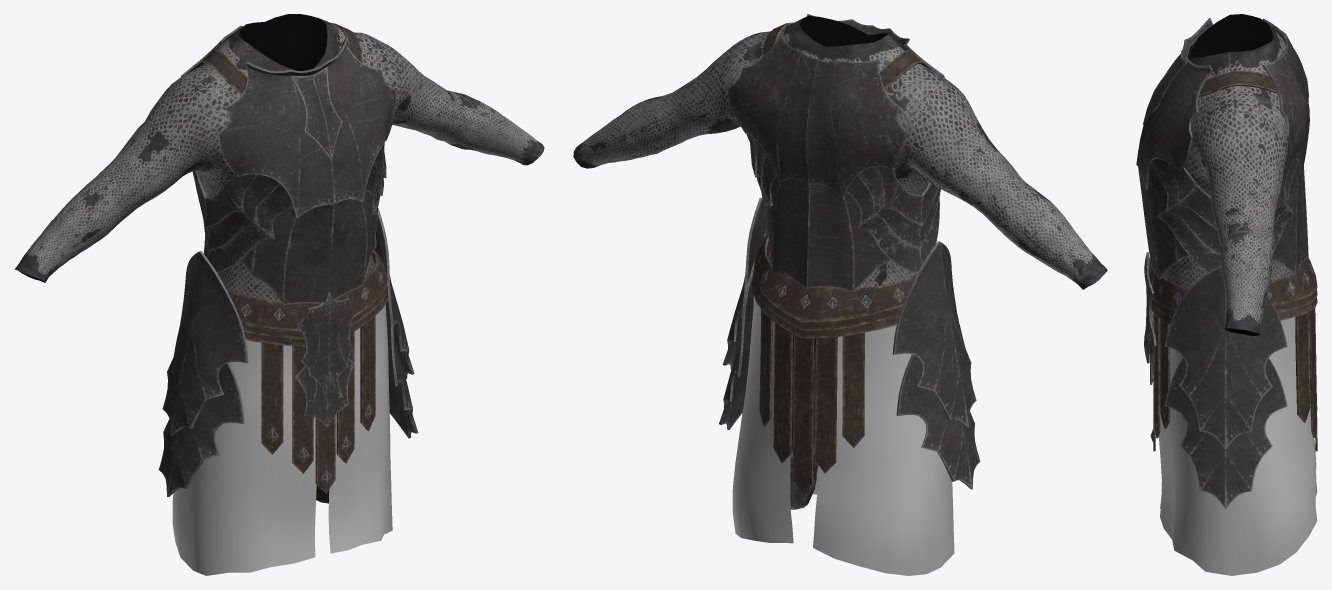
The model's file is sk_uruk_mordor_chainmail_elite_b2.fbx.
3 views of the same model, side by side, from view 1: azimuth 30°, elevation 25°; view 2: azimuth 150°, elevation 25°; view 3: azimuth 270°, elevation 25° (orthographic). The views are drawn at different scales.
Parts seen in each view (by area): view 1: sk_uruk_mordor_chainmail_elite_b2.4, sk_uruk_mordor_chainmail_elite_b2.0, sk_uruk_mordor_chainmail_elite_b2.2, sk_uruk_mordor_chainmail_elite_b2.5, sk_uruk_mordor_chainmail_elite_b2.1, sk_uruk_mordor_chainmail_elite_b2.3; view 2: sk_uruk_mordor_chainmail_elite_b2.4, sk_uruk_mordor_chainmail_elite_b2.0, sk_uruk_mordor_chainmail_elite_b2.2, sk_uruk_mordor_chainmail_elite_b2.1, sk_uruk_mordor_chainmail_elite_b2.5; view 3: sk_uruk_mordor_chainmail_elite_b2.0, sk_uruk_mordor_chainmail_elite_b2.2, sk_uruk_mordor_chainmail_elite_b2.4, sk_uruk_mordor_chainmail_elite_b2.5, sk_uruk_mordor_chainmail_elite_b2.1, sk_uruk_mordor_chainmail_elite_b2.3.
Part boxes in pixels (box(x1,y1,x2,y2)): sk_uruk_mordor_chainmail_elite_b2.4: box(180, 17, 396, 304); sk_uruk_mordor_chainmail_elite_b2.0: box(15, 14, 544, 503); sk_uruk_mordor_chainmail_elite_b2.2: box(172, 304, 392, 575); sk_uruk_mordor_chainmail_elite_b2.5: box(158, 208, 418, 496); sk_uruk_mordor_chainmail_elite_b2.1: box(202, 23, 388, 493); sk_uruk_mordor_chainmail_elite_b2.3: box(295, 291, 354, 426); sk_uruk_mordor_chainmail_elite_b2.4: box(727, 14, 944, 292); sk_uruk_mordor_chainmail_elite_b2.0: box(573, 15, 1107, 509); sk_uruk_mordor_chainmail_elite_b2.2: box(732, 296, 954, 575); sk_uruk_mordor_chainmail_elite_b2.1: box(751, 22, 924, 493); sk_uruk_mordor_chainmail_elite_b2.5: box(719, 198, 980, 489); sk_uruk_mordor_chainmail_elite_b2.0: box(1163, 14, 1290, 335); sk_uruk_mordor_chainmail_elite_b2.2: box(1159, 317, 1317, 575); sk_uruk_mordor_chainmail_elite_b2.4: box(1136, 18, 1309, 279); sk_uruk_mordor_chainmail_elite_b2.5: box(1164, 265, 1287, 509); sk_uruk_mordor_chainmail_elite_b2.1: box(1150, 70, 1317, 451); sk_uruk_mordor_chainmail_elite_b2.3: box(1144, 252, 1156, 384).
Bounding box in the file's own units: 1.37 × 0.4256 × 1.29.
